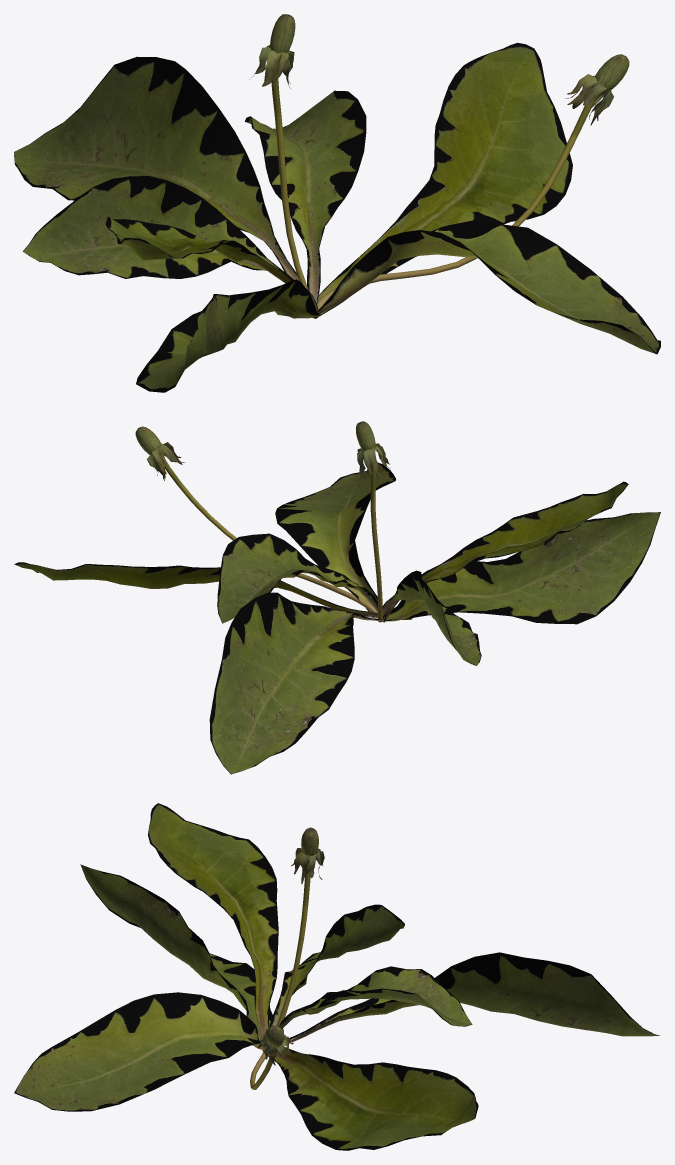
File: Planta_9.glb
3 renders of one model, top to bottom at view 1: azimuth 30°, elevation 25°; view 2: azimuth 150°, elevation 25°; view 3: azimuth 270°, elevation 25°, orthographic. The views are drawn at different scales.
Parts seen in each view (by area): view 1: Planta 9; view 2: Planta 9; view 3: Planta 9.
Boxes of the visible parts, box(x1,y1,x2,y2) form: Planta 9: box(14, 14, 660, 392); Planta 9: box(14, 421, 660, 774); Planta 9: box(14, 803, 659, 1150).
Size of the model in its own units: 0.2198 by 0.0998 by 0.2584.
Materials: 1 (1 with a texture image).
